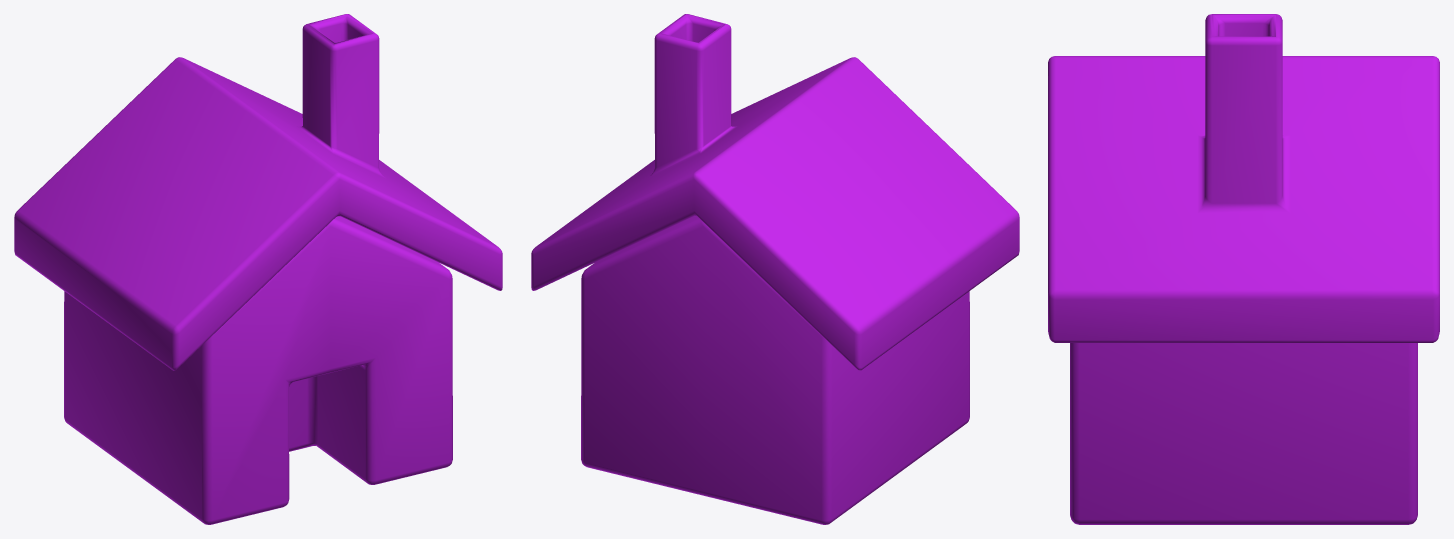
Rendered from teleport 3d ui.fbx.
3 views of the same model, side by side, from view 1: azimuth 30°, elevation 25°; view 2: azimuth 150°, elevation 25°; view 3: azimuth 270°, elevation 25° (orthographic). The views are drawn at different scales.
Visible parts, largest first — view 1: Cube, Cube.001; view 2: Cube, Cube.001; view 3: Cube, Cube.001.
Part boxes in pixels (x1,y1,x2,y2): Cube: (14, 14, 502, 370); Cube.001: (64, 216, 452, 524); Cube: (531, 14, 1019, 370); Cube.001: (581, 216, 969, 524); Cube: (1048, 14, 1439, 342); Cube.001: (1070, 343, 1417, 524).
Bounding box in the file's own units: 5.28 × 6.07 × 4.51.
